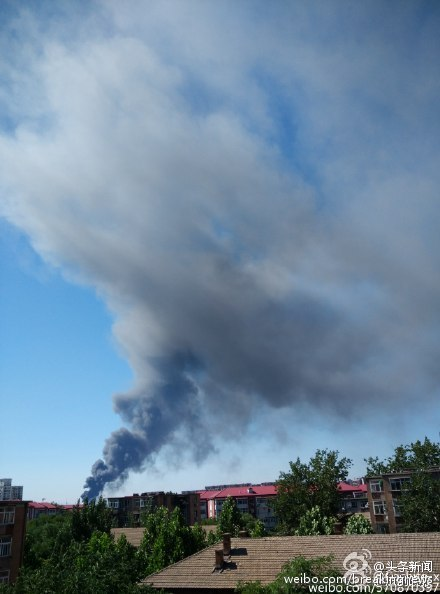smoke: (46, 137, 386, 456)
